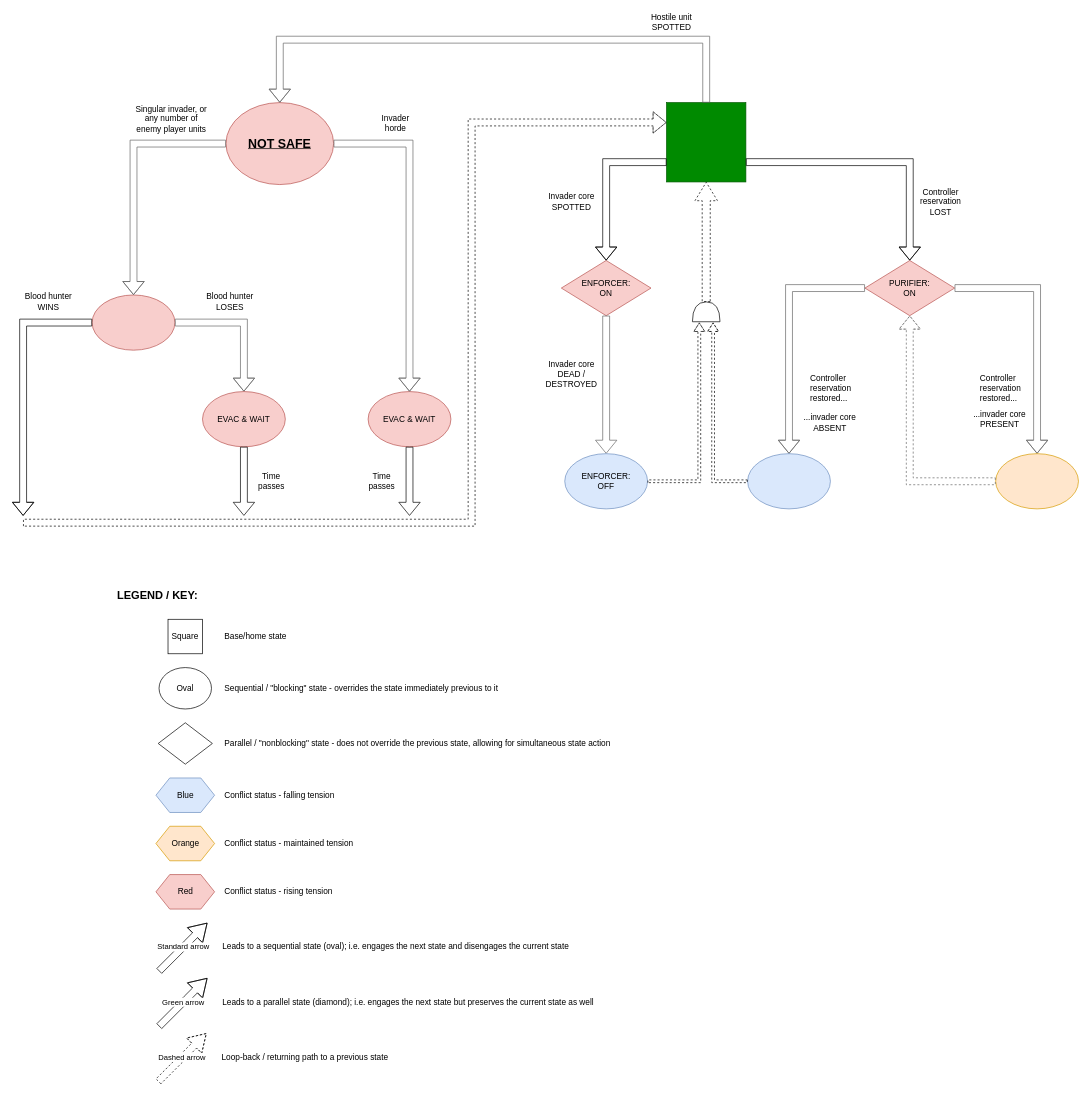
Image size: 1090x1096. Some labels were removed from this diagram. The shapes that lost their labels are listed below. From the top down, each one's centre as x and y in pixels, then its label:
At (706,142): "SAFE".
At (133,322): "BLOOD HUNTER: SPAWN".
At (788,481): "PURIFIER: OFF".
At (1036,481): "MAINTAIN".
At (185,743): "Diamond".
